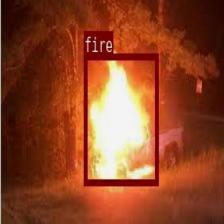fire: (83, 52, 157, 184)
